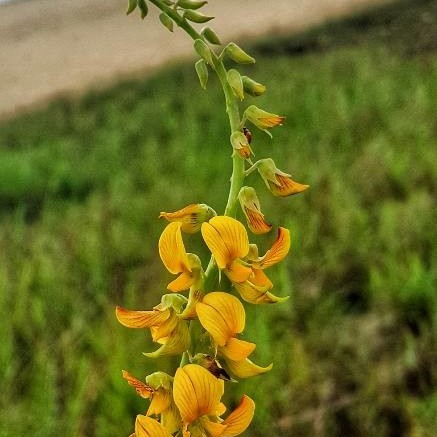obstacle: (131, 20, 309, 423)
